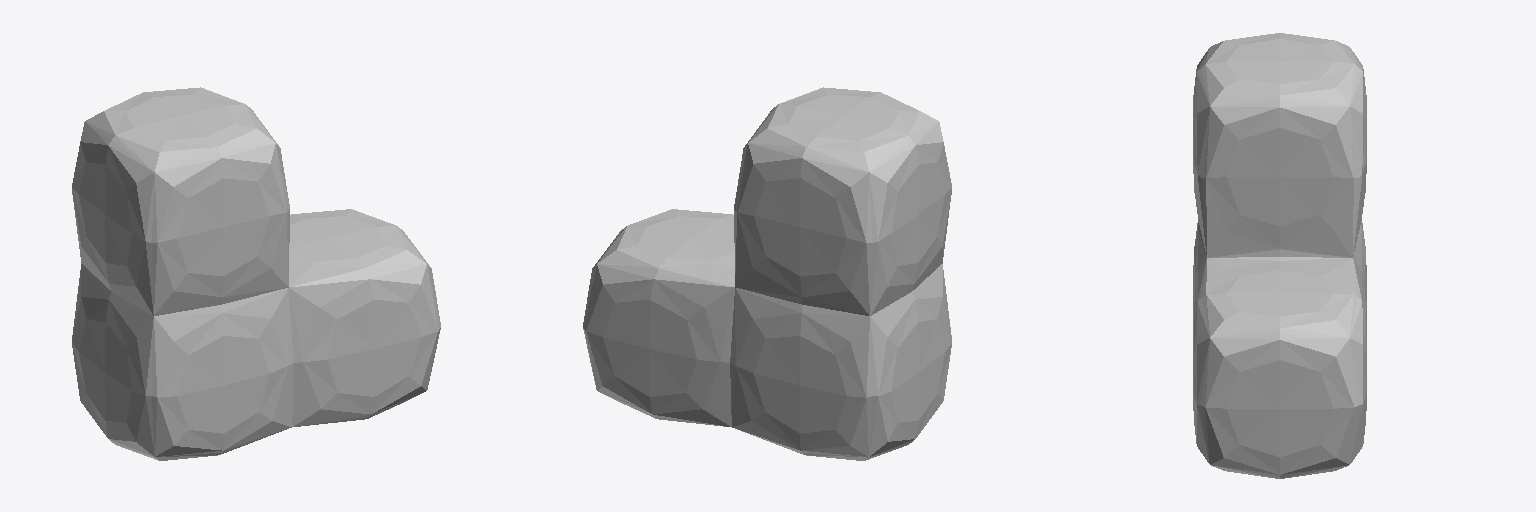
The model's file is 3_block_bend.obj.
3 renders of one model, left to right at view 1: azimuth 30°, elevation 25°; view 2: azimuth 150°, elevation 25°; view 3: azimuth 270°, elevation 25°, orthographic.
Visible parts, largest first — view 1: tower_wall_bent; view 2: tower_wall_bent; view 3: tower_wall_bent.
Part boxes in pixels (bbox=[...]): tower_wall_bent: bbox=[72, 87, 440, 460]; tower_wall_bent: bbox=[583, 87, 951, 460]; tower_wall_bent: bbox=[1193, 33, 1366, 478].
Size of the model in its own units: 4 by 4 by 2.